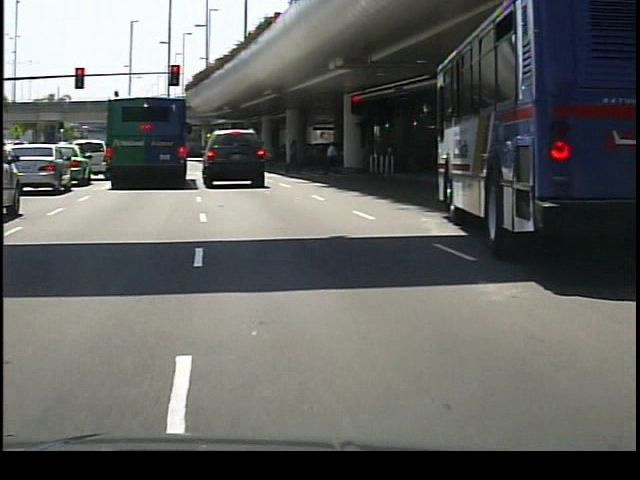person: (283, 136, 305, 178), (320, 139, 340, 176)
